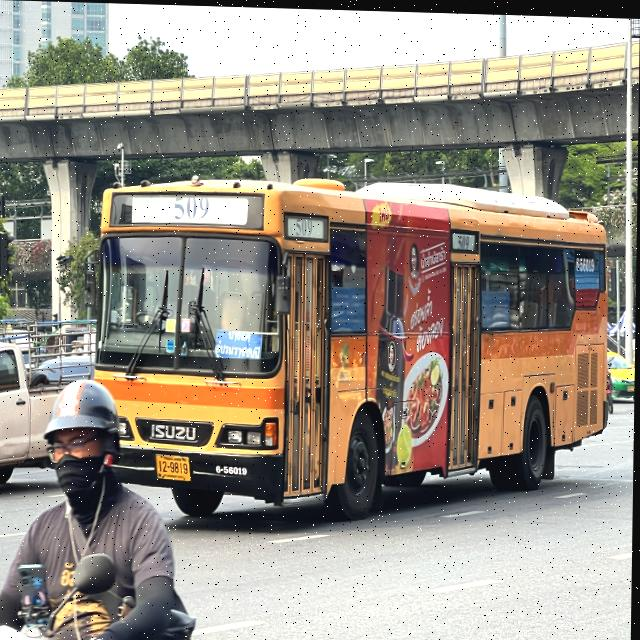BMTA-bus: (93, 178, 613, 520)
Bus Line Number: (167, 192, 211, 221), (291, 214, 317, 237)
Bus Side Number: (212, 463, 250, 474)
Destination Sign: (217, 328, 262, 357)
